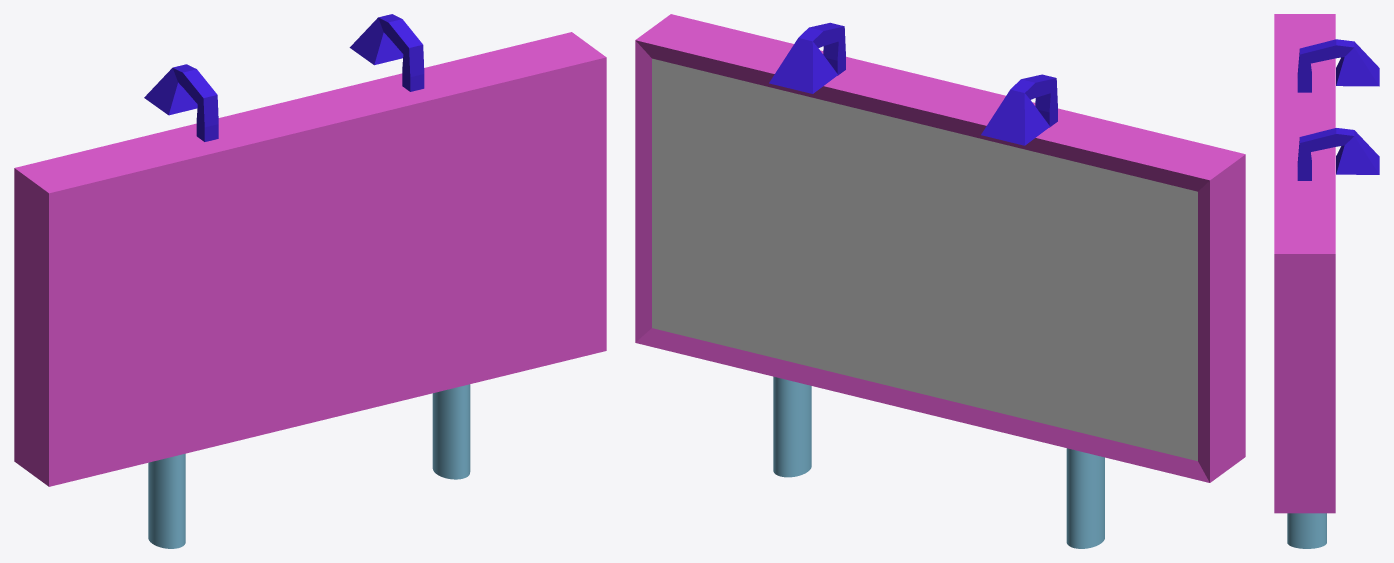
File: billboard2.glb
3 views of the same model, side by side, from view 1: azimuth 30°, elevation 25°; view 2: azimuth 150°, elevation 25°; view 3: azimuth 270°, elevation 25° (orthographic). The views are drawn at different scales.
Parts seen in each view (by area): view 1: Cube, Cylinder, Cube.001; view 2: board, Cube, Cylinder, Cube.001; view 3: Cube, Cube.001, Cylinder.
Part boxes in pixels (bbox=[...]): Cube: bbox=[14, 32, 606, 486]; Cylinder: bbox=[148, 384, 470, 548]; Cube.001: bbox=[144, 14, 424, 141]; board: bbox=[652, 58, 1197, 461]; Cube: bbox=[635, 14, 1245, 482]; Cylinder: bbox=[773, 376, 1104, 548]; Cube.001: bbox=[769, 22, 1057, 145]; Cube: bbox=[1274, 14, 1335, 513]; Cube.001: bbox=[1297, 39, 1379, 180]; Cylinder: bbox=[1287, 513, 1326, 548].
Bounding box in the file's own units: 15.68 × 12.02 × 2.91.
